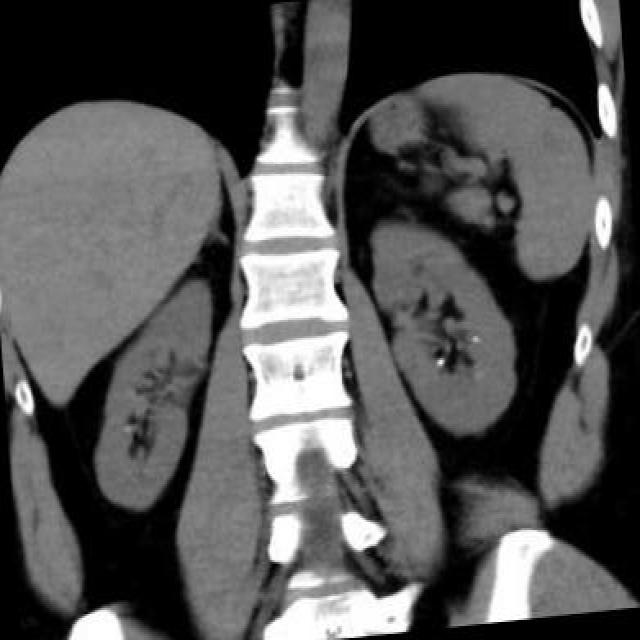Tas_Var: (432, 355, 447, 371), (468, 331, 480, 347), (120, 421, 132, 433)
